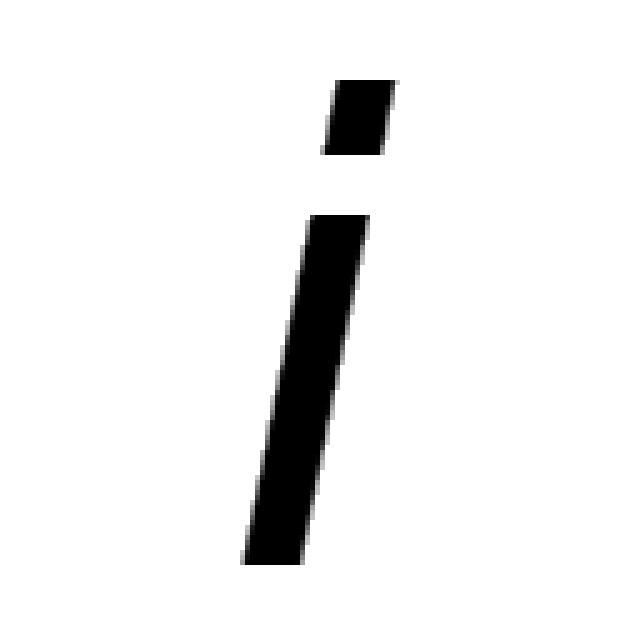I: (241, 68, 401, 570)
